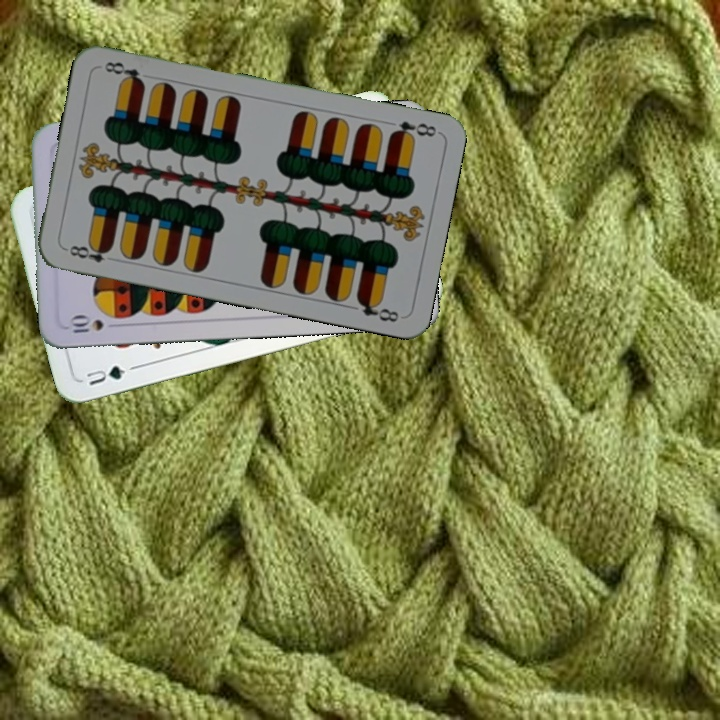E8: (61, 239, 114, 265), (386, 117, 439, 142)
GU: (82, 361, 138, 389)
S10: (65, 312, 123, 336)
